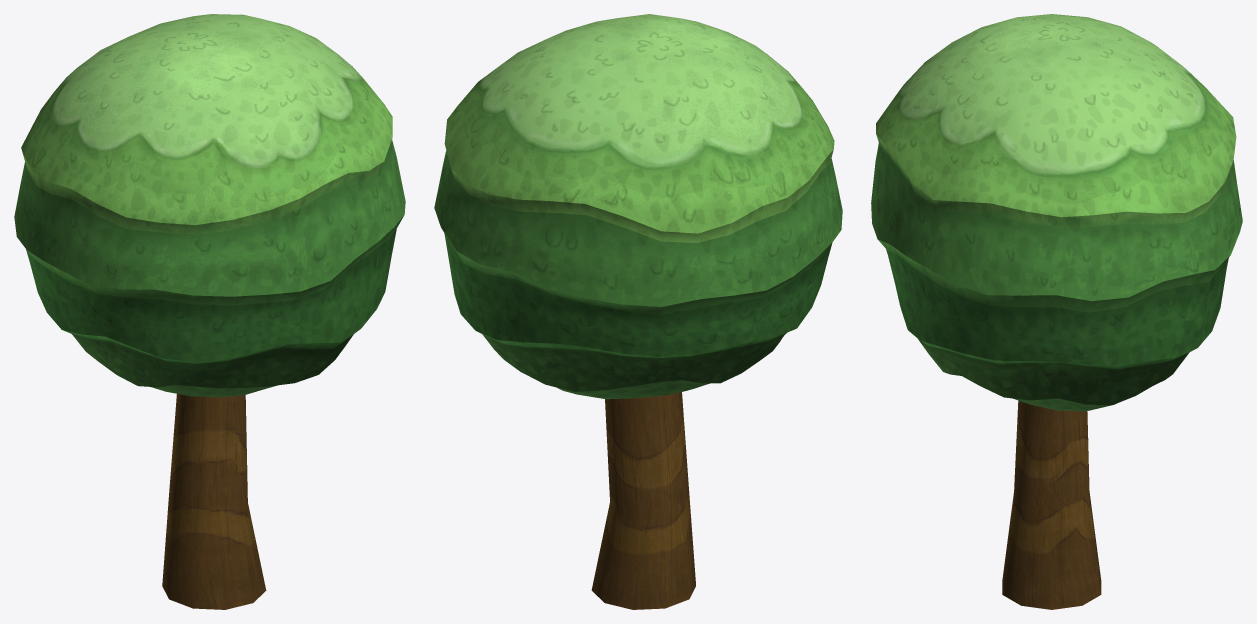
Rendered from OakTree Updated.fbx.
3 renders of one model, left to right at view 1: azimuth 30°, elevation 25°; view 2: azimuth 150°, elevation 25°; view 3: azimuth 270°, elevation 25°, orthographic.
Visible parts, largest first — view 1: OakTree2; view 2: OakTree2; view 3: OakTree2.
Boxes of the visible parts, bbox=[...] form: OakTree2: bbox=[14, 14, 405, 609]; OakTree2: bbox=[434, 14, 842, 609]; OakTree2: bbox=[871, 14, 1242, 609].
Size of the model in its own units: 684 by 1030 by 634.
